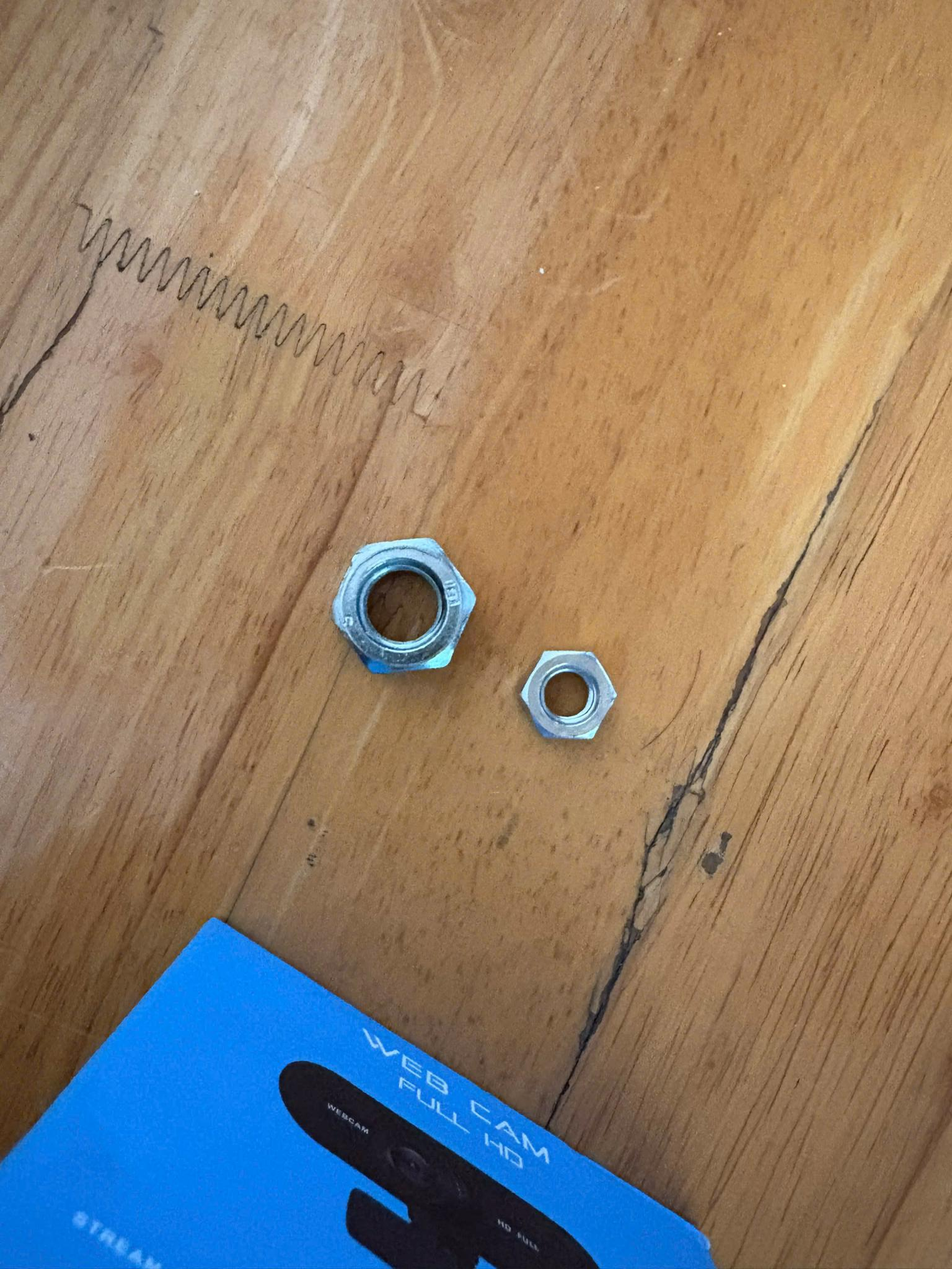nut: (332, 526, 480, 698), (521, 650, 627, 756)
